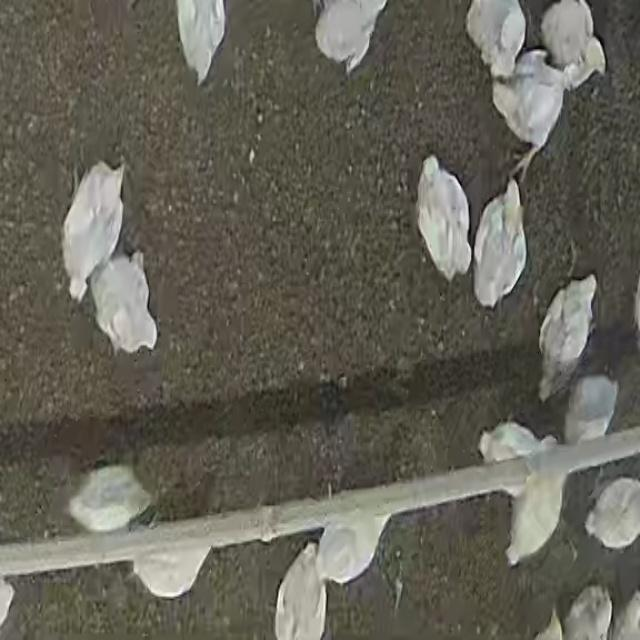chicken: (484, 50, 574, 175), (57, 158, 125, 300), (533, 269, 599, 405), (410, 150, 474, 283), (470, 176, 530, 309), (89, 252, 162, 355), (66, 462, 155, 534)
